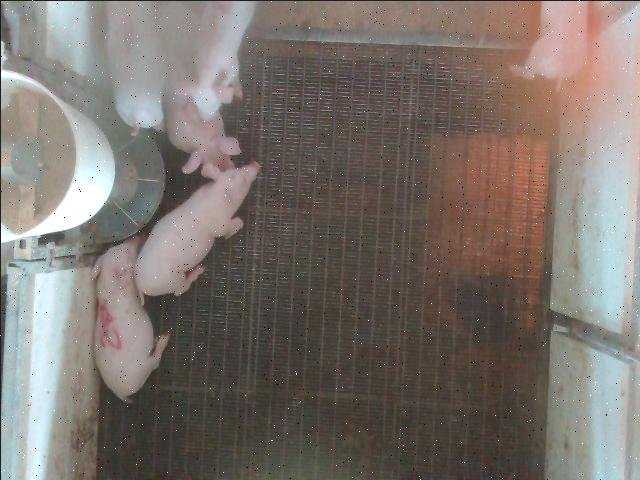pig-1: (106, 2, 165, 130)
pig-3: (156, 1, 240, 172)
pig-4: (176, 2, 255, 120)
pig-5: (91, 234, 169, 401)
